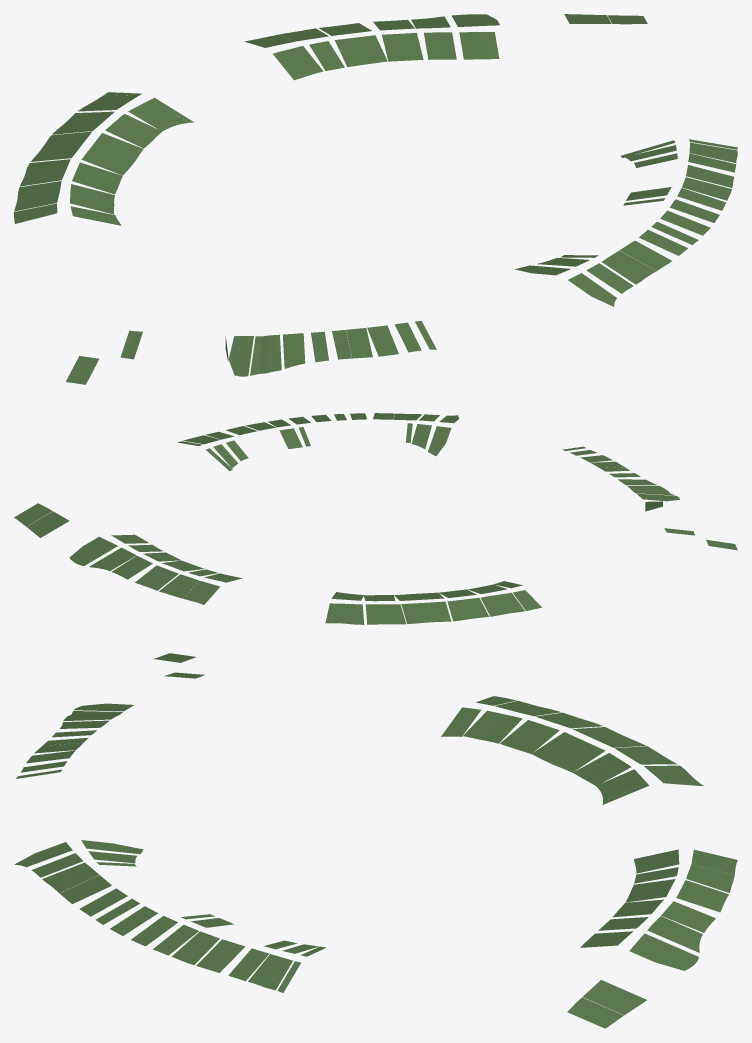
The model's file is br_h39_henday_yellowhead_1_lod3.gltf.
3 renders of one model, top to bottom at view 1: azimuth 30°, elevation 25°; view 2: azimuth 150°, elevation 25°; view 3: azimuth 270°, elevation 25°, orthographic. The views are drawn at different scales.
Visible parts, largest first — view 1: br_h39_henday_yellowhead_1_lod3; view 2: br_h39_henday_yellowhead_1_lod3; view 3: br_h39_henday_yellowhead_1_lod3.
Part boxes in pixels (left/top/right/bottom): br_h39_henday_yellowhead_1_lod3: left=14, top=14, right=737, bottom=384; br_h39_henday_yellowhead_1_lod3: left=14, top=413, right=737, bottom=624; br_h39_henday_yellowhead_1_lod3: left=14, top=653, right=737, bottom=1028.
Bounding box in the file's own units: 771 × 28.47 × 609.
